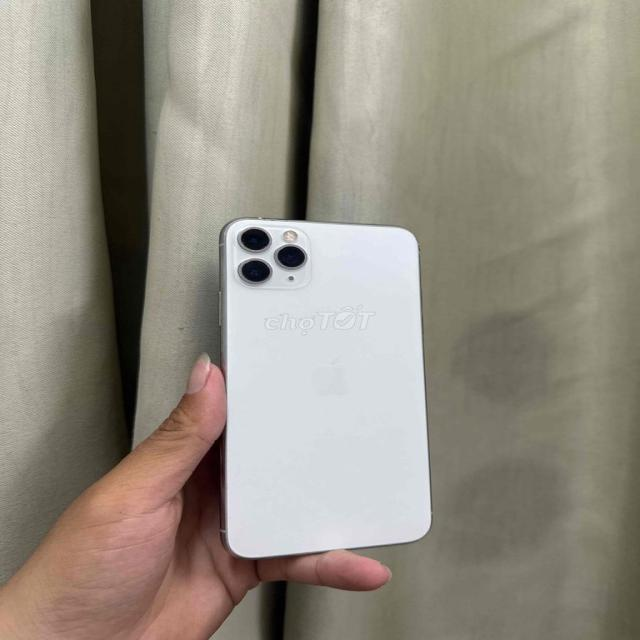gen_11: (213, 213, 443, 566)
